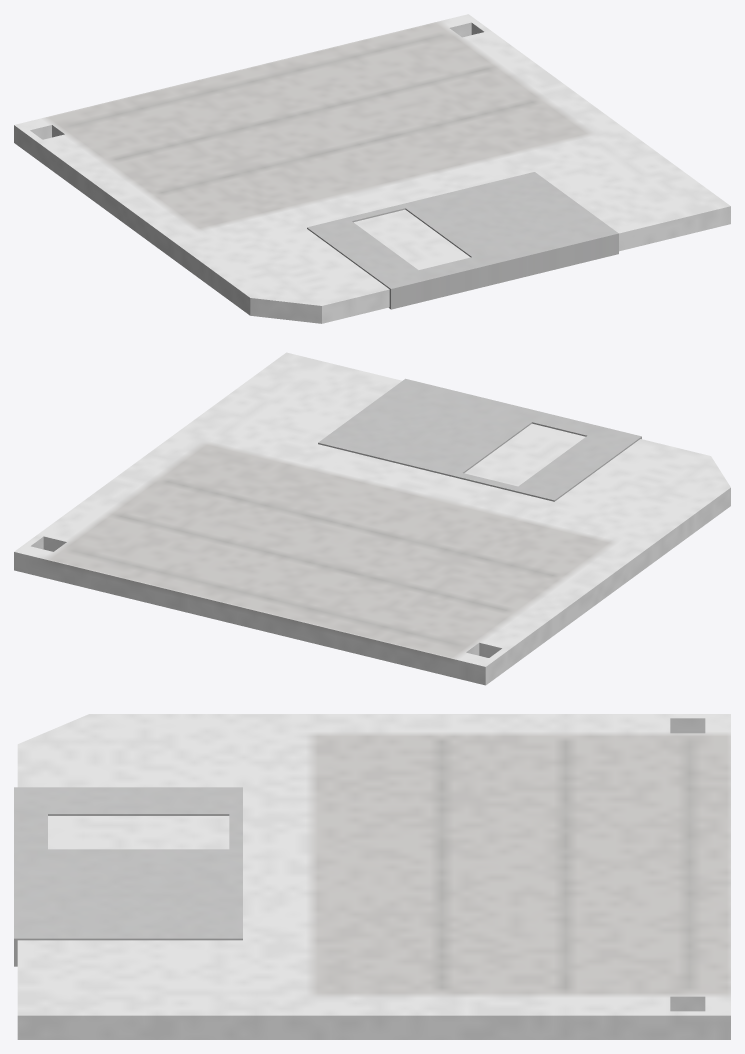
Rendered from SM_FloppyDisk_00.fbx.
3 renders of one model, top to bottom at view 1: azimuth 30°, elevation 25°; view 2: azimuth 150°, elevation 25°; view 3: azimuth 270°, elevation 25°, orthographic. The views are drawn at different scales.
Visible parts, largest first — view 1: Floppy_Disk; view 2: Floppy_Disk; view 3: Floppy_Disk.
Part boxes in pixels (bbox=[...]): Floppy_Disk: bbox=[14, 14, 730, 323]; Floppy_Disk: bbox=[14, 352, 730, 685]; Floppy_Disk: bbox=[14, 714, 730, 1039].
Bounding box in the file's own units: 11.25 × 0.4877 × 11.31.
